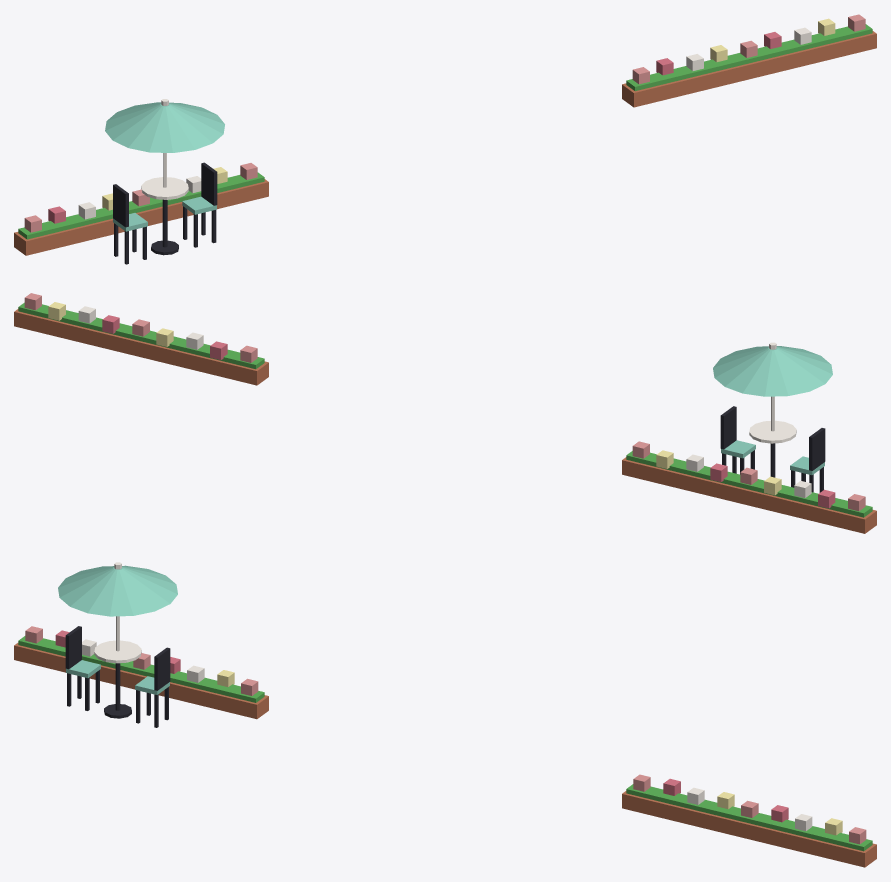
File: CatCafe_Plot_Tier2.glb
3 views of the same model, one above another, from view 1: azimuth 30°, elevation 25°; view 2: azimuth 150°, elevation 25°; view 3: azimuth 330°, elevation 25° (orthographic).
Parts seen in each view (by area): view 1: CatCafe_Plot_Tier2, CatCafe_Plot_Tier2_Flowers; view 2: CatCafe_Plot_Tier2, CatCafe_Plot_Tier2_Flowers; view 3: CatCafe_Plot_Tier2, CatCafe_Plot_Tier2_Flowers.
Part boxes in pixels (<box>): CatCafe_Plot_Tier2: <box>14,14,876,264</box>; CatCafe_Plot_Tier2_Flowers: <box>18,24,872,239</box>; CatCafe_Plot_Tier2: <box>14,293,876,533</box>; CatCafe_Plot_Tier2_Flowers: <box>18,302,872,517</box>; CatCafe_Plot_Tier2: <box>14,562,876,867</box>; CatCafe_Plot_Tier2_Flowers: <box>18,636,872,851</box>.
Size of the model in its own units: 30.8 by 5.15 by 3.8.
1 material, 1 textured.
